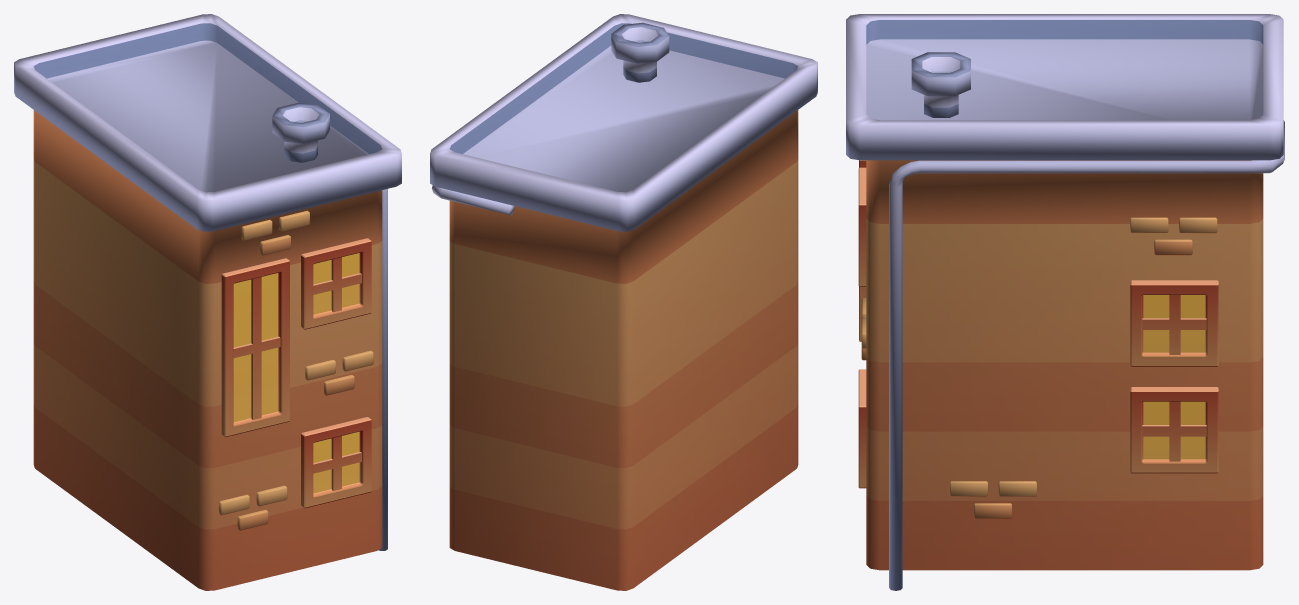
File: BAT4.fbx
The picture shows the model from 3 angles, left to right: view 1: azimuth 30°, elevation 25°; view 2: azimuth 150°, elevation 25°; view 3: azimuth 270°, elevation 25°; orthographic projection. The views are drawn at different scales.
Parts seen in each view (by area): view 1: Cube.026; view 2: Cube.026; view 3: Cube.026.
Part boxes in pixels (x1,y1,x2,y2): Cube.026: (14, 14, 401, 590); Cube.026: (430, 14, 817, 590); Cube.026: (846, 14, 1284, 590).
Bounding box in the file's own units: 2046 × 4091 × 3321.
